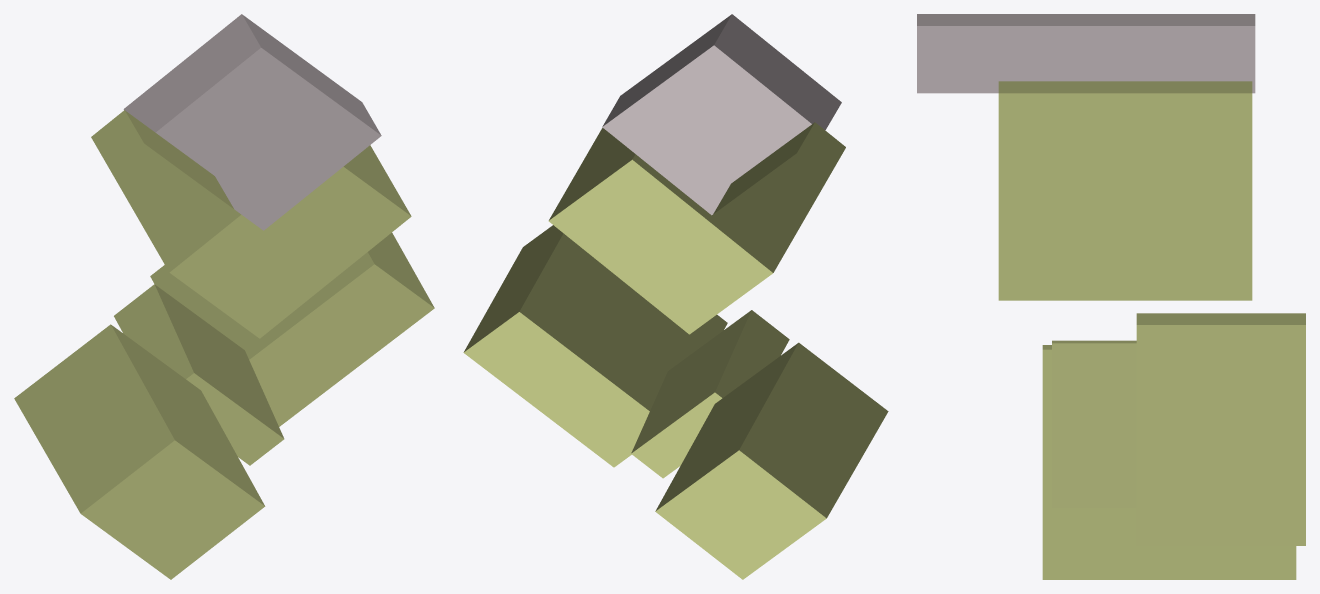
3 renders of one model, left to right at view 1: azimuth 30°, elevation 25°; view 2: azimuth 150°, elevation 25°; view 3: azimuth 270°, elevation 25°, orthographic. The views are drawn at different scales.
Parts seen in each view (by area): view 1: 0_1_1_3_2_2_3_1; view 2: 0_1_1_3_2_2_3_1; view 3: 0_1_1_3_2_2_3_1.
Part boxes in pixels (x1,y1,x2,y2): 0_1_1_3_2_2_3_1: [14, 14, 434, 579]; 0_1_1_3_2_2_3_1: [463, 14, 888, 579]; 0_1_1_3_2_2_3_1: [917, 14, 1305, 579].
Size of the model in its own units: 20.92 by 26.08 by 13.79.
